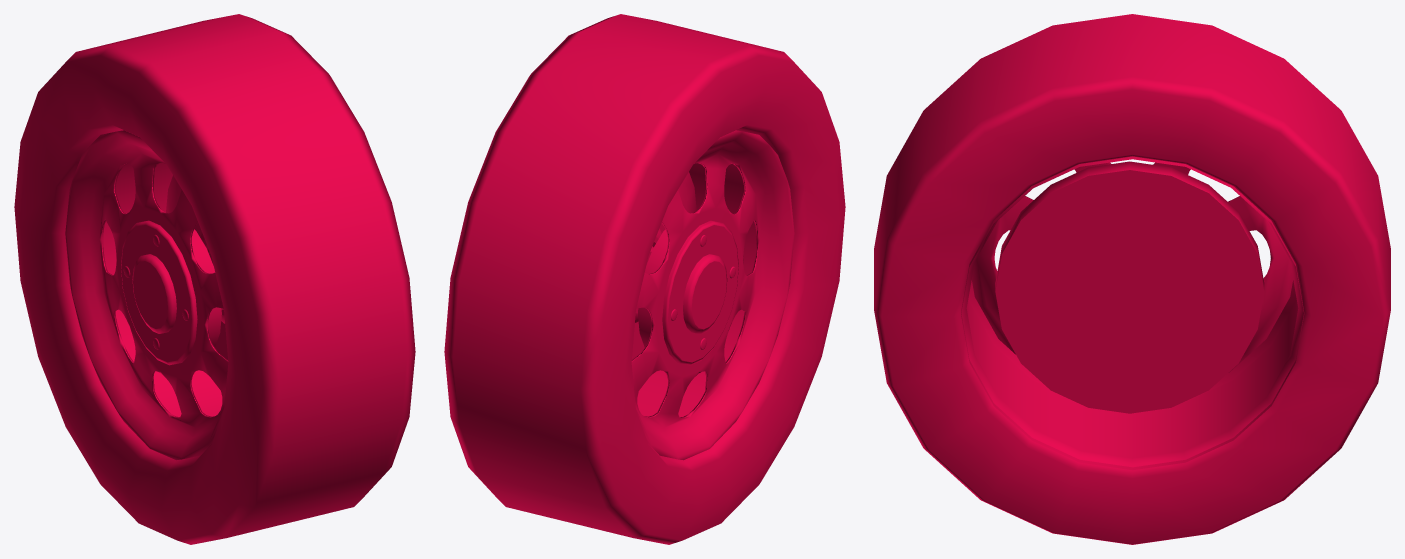
Rendered from PickUp_Wheel_01_Lod0.fbx.
3 views of the same model, side by side, from view 1: azimuth 30°, elevation 25°; view 2: azimuth 150°, elevation 25°; view 3: azimuth 270°, elevation 25° (orthographic).
Parts seen in each view (by area): view 1: PickUp_Wheel_01_Lod0; view 2: PickUp_Wheel_01_Lod0; view 3: PickUp_Wheel_01_Lod0.
Part boxes in pixels (x1,y1,x2,y2): PickUp_Wheel_01_Lod0: (14,14,415,544); PickUp_Wheel_01_Lod0: (444,14,845,544); PickUp_Wheel_01_Lod0: (874,14,1390,544).
Size of the model in its own units: 35.74 by 97.11 by 97.11.
